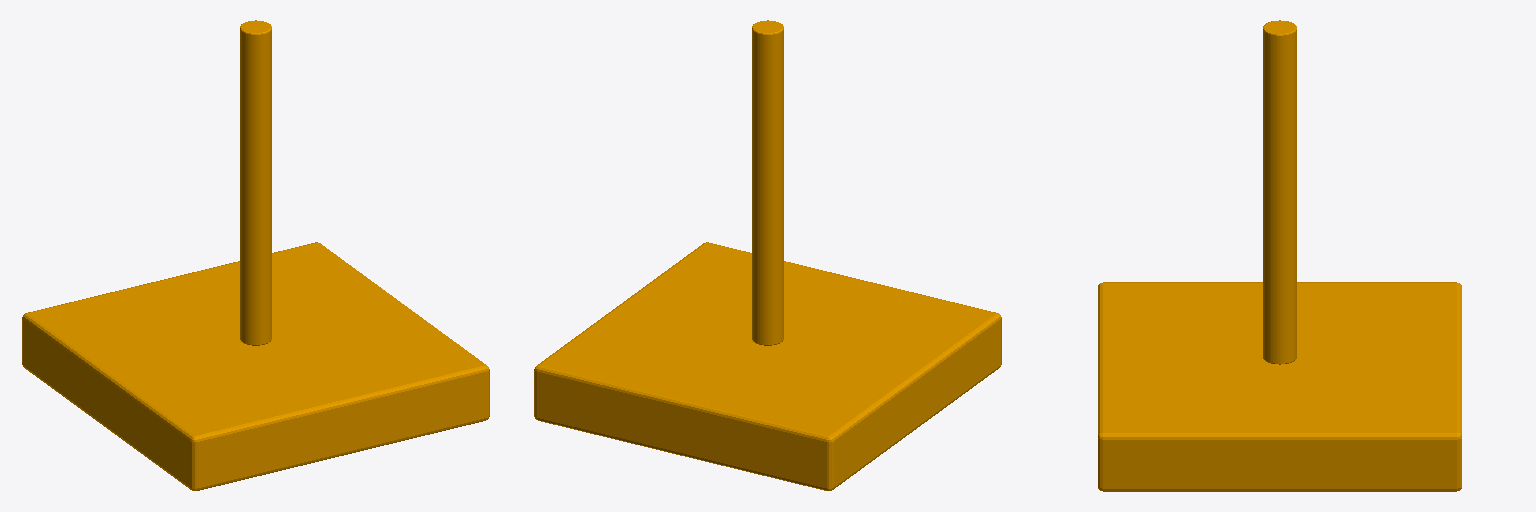
URDF robot description (washer_target_fixture):
<?xml version="1.0" ?>
<robot name="washer_target_fixture">
  <link name="base_link">
    <inertial>
      <origin xyz="0 0 0.05" rpy="0 0 0"/>
      <mass value="0.056323783"/>
      <inertia ixx="8.08480969e-05" ixy="0" ixz="0" iyy="8.08480969e-05" iyz="0" izz="6.7823222e-05"/>
    </inertial>
    <visual name="visual">
      <origin xyz="0 0 0" rpy="0 0 0"/>
      <geometry>
        <mesh filename="meshes/visual.obj" scale="1 1 1"/>
      </geometry>
    </visual>
    <collision name="plank">
      <origin xyz="0 0 0" rpy="0 0 0"/>
      <geometry>
        <mesh filename="meshes/collision/plank.obj" scale="1 1 1"/>
      </geometry>
    </collision>
    <collision name="washer_peg">
      <origin xyz="0 0 0" rpy="0 0 0"/>
      <geometry>
        <mesh filename="meshes/collision/washer_peg.obj" scale="1 1 1"/>
      </geometry>
    </collision>
  </link>
</robot>

--- Facts derived from the render (not from the file) ---
The picture shows the robot from 3 angles, left to right: view 1: azimuth 30°, elevation 25°; view 2: azimuth 150°, elevation 25°; view 3: azimuth 270°, elevation 25°; orthographic projection.
Robot: washer_target_fixture — 1 links, 0 joints (none); root link base_link; default pose: all joints at 0.
Visible links, largest first — view 1: base_link; view 2: base_link; view 3: base_link.
Boxes of the visible links, left/top/right/bottom form: base_link: left=22, top=20, right=489, bottom=490; base_link: left=534, top=20, right=1001, bottom=490; base_link: left=1098, top=20, right=1461, bottom=491.
Size in the robot's own frame: 0.085 by 0.085 by 0.1 metres.
Meshes: 1 distinct files referenced, 1 mesh visuals loaded (1 OBJ).
